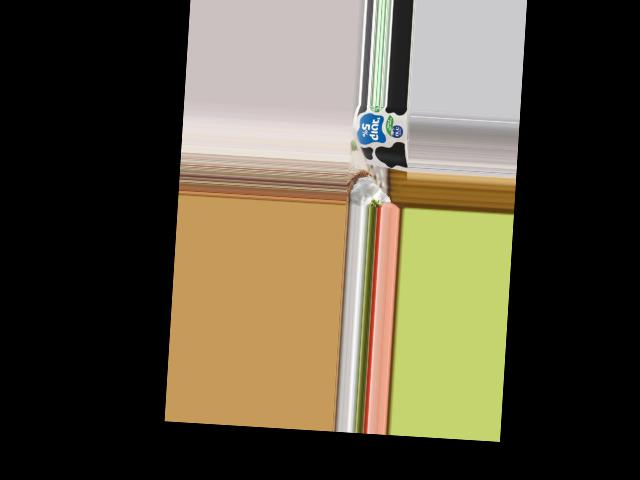cotage: (351, 104, 411, 168)
